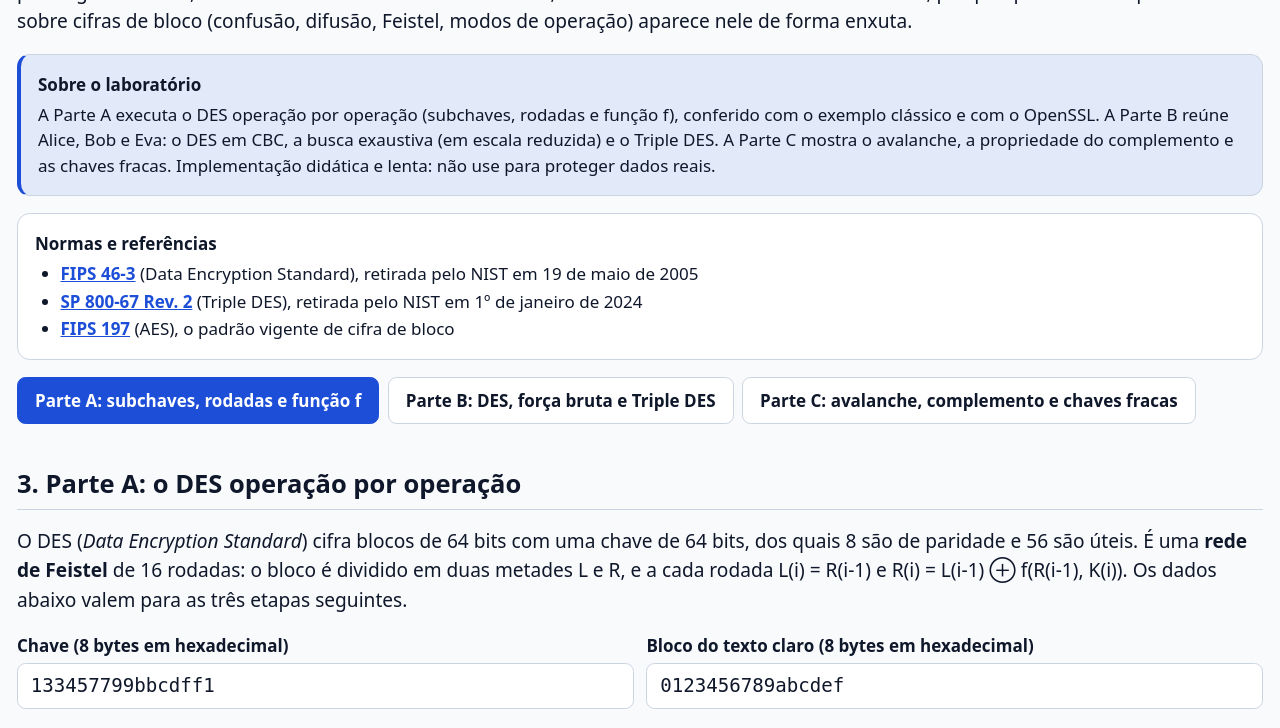
Test case: laboratório de DES e Triple DES › Parte B: a busca exaustiva acha a chave e projeta o tempo da chave inteira
The width and height of the screenshot is (1280, 728).
(page scrolled)
Click the radio button labelled "Parte B: DES, força bruta e Triple DES" at (561, 400), box [388,377,734,424]
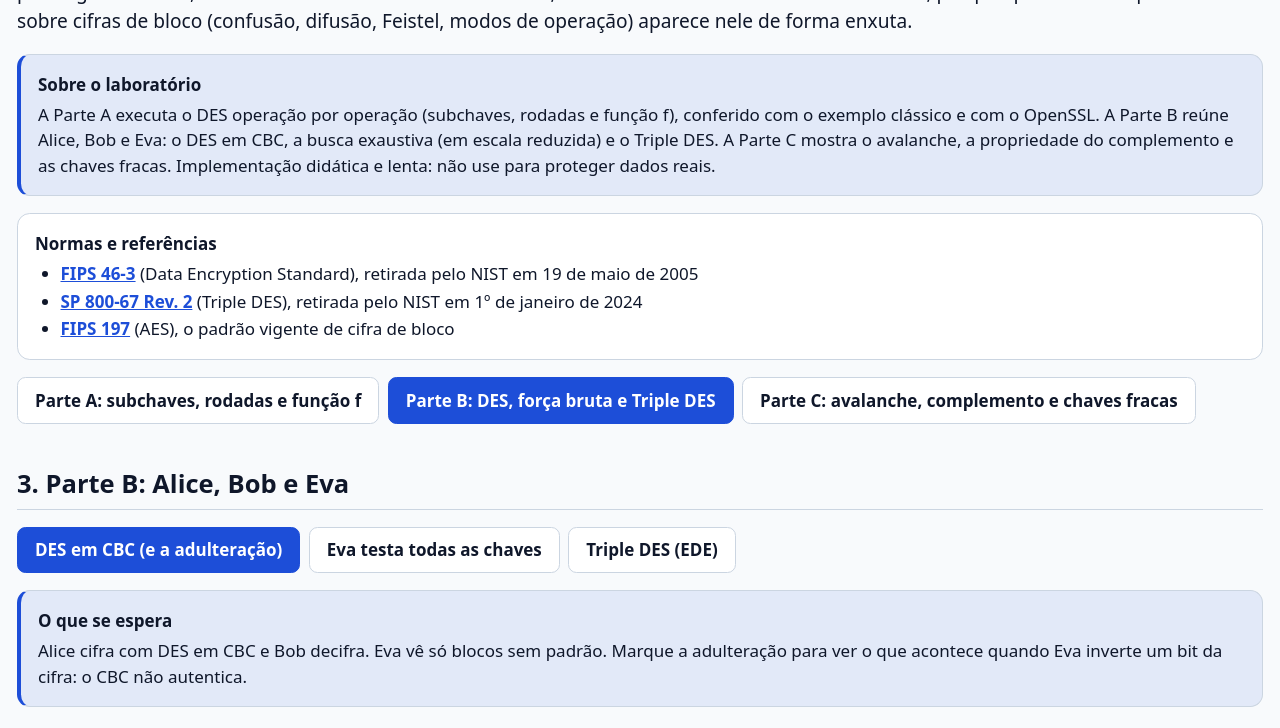
Click the radio button labelled "Eva testa todas as chaves" at (434, 550), box [309,527,560,574]
(page scrolled)
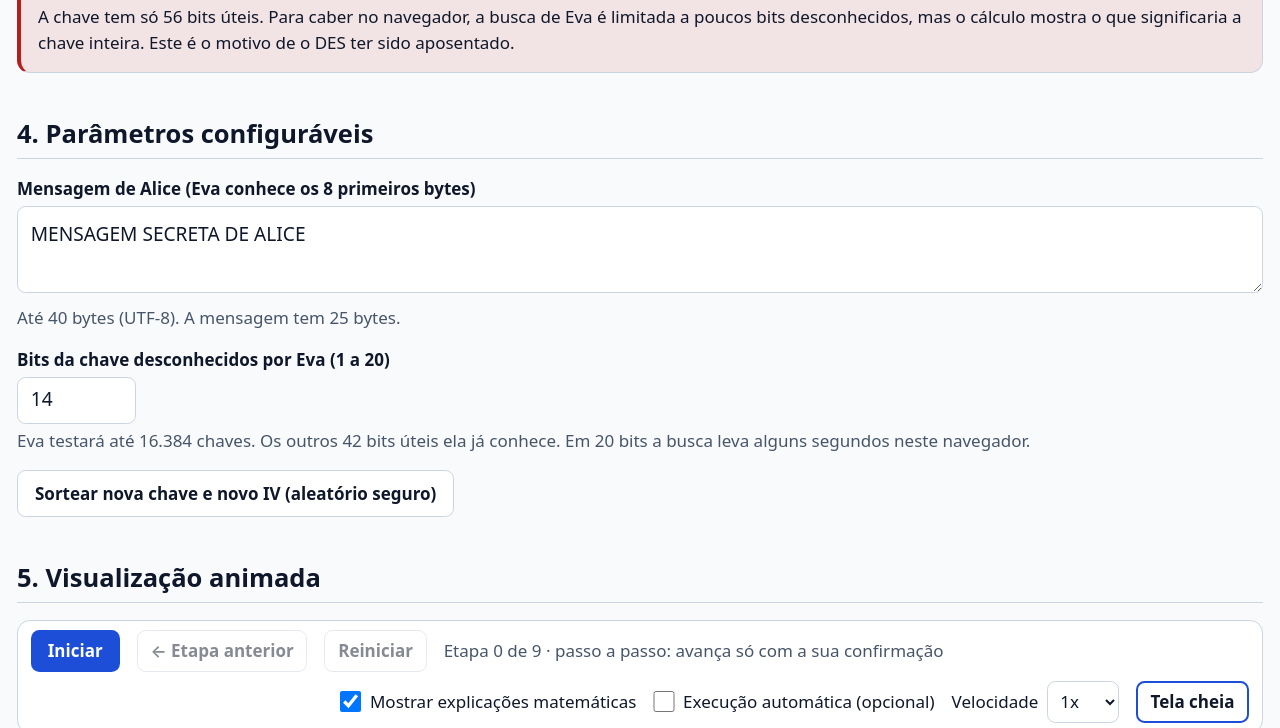
Replace the text in the number field labelled "Bits da chave desconhecidos por Eva (1 a 20)" with "8" at (76, 400), box [17,377,136,424]
(page scrolled)
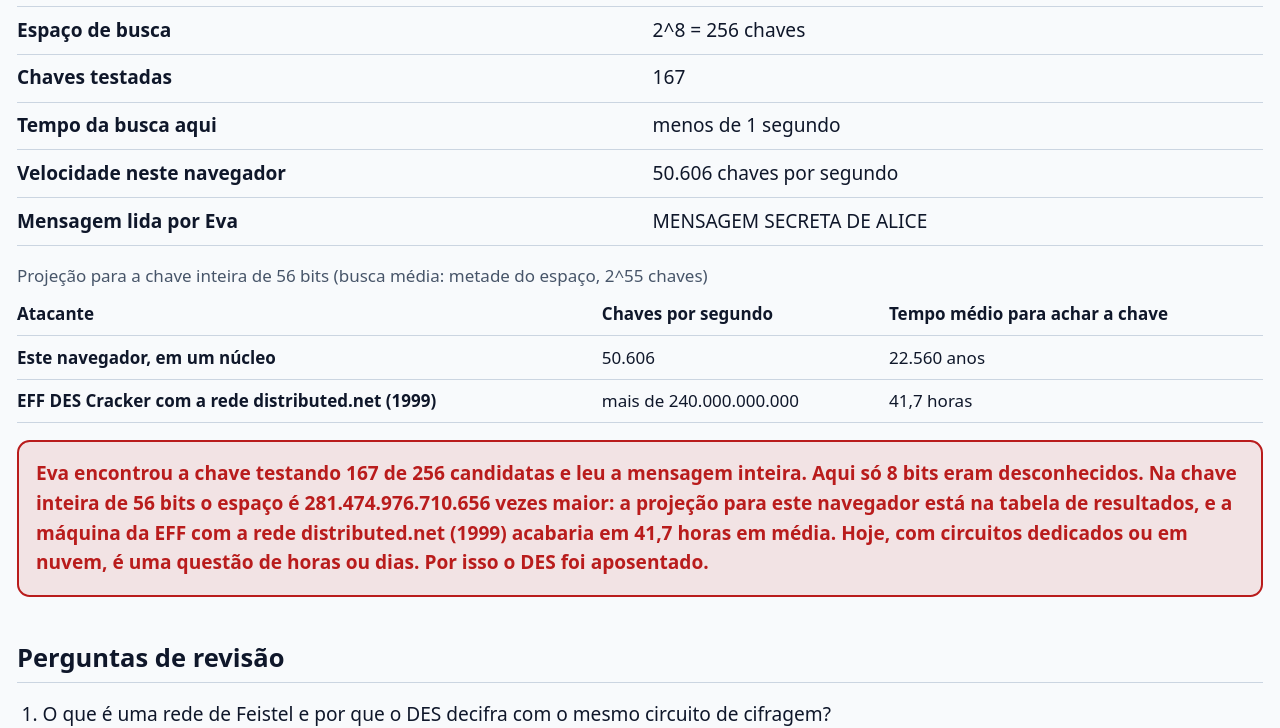
Expected: the text "Projeção para a chave inteira de 56 bits" is shown, [17,264,708,287]
Expected: the text "mais de 240.000.000.000" is shown, [602,379,889,423]
Expected: the text "2^8 = 256 chaves" is shown, [652,7,1263,54]
